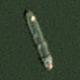ship: (24, 0, 55, 31)
